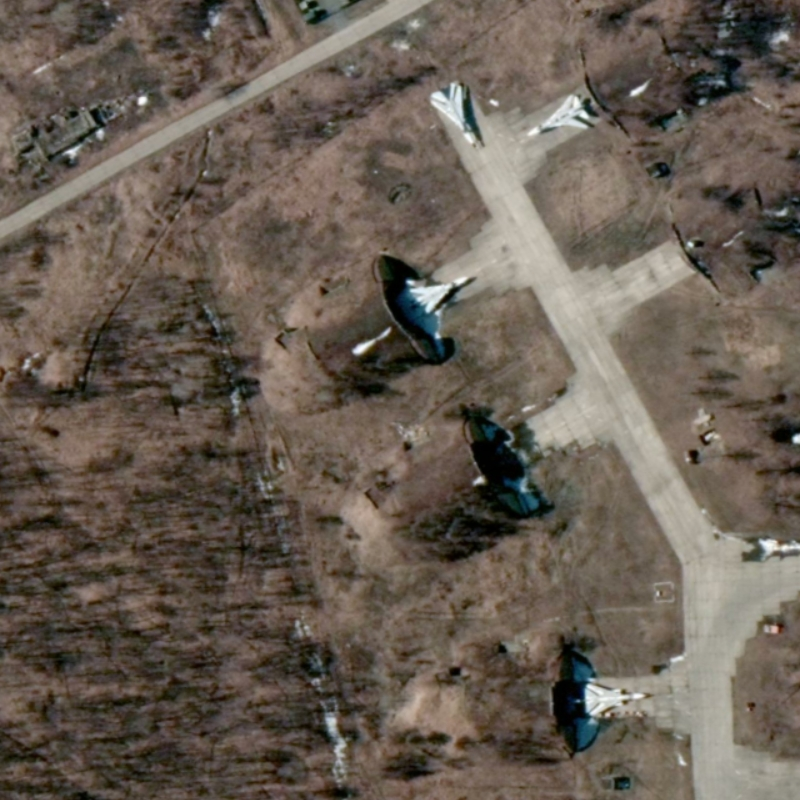A20: (429, 81, 477, 146), (401, 275, 470, 318), (525, 93, 590, 137), (582, 682, 647, 718)
